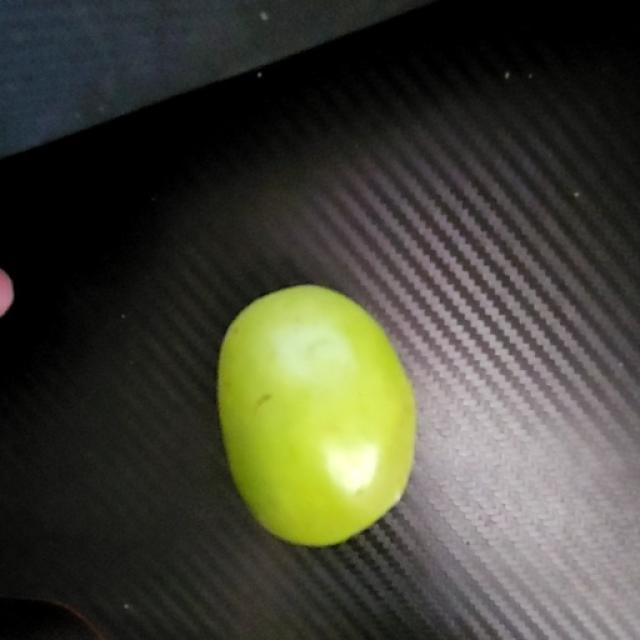Red: (214, 281, 418, 548)
